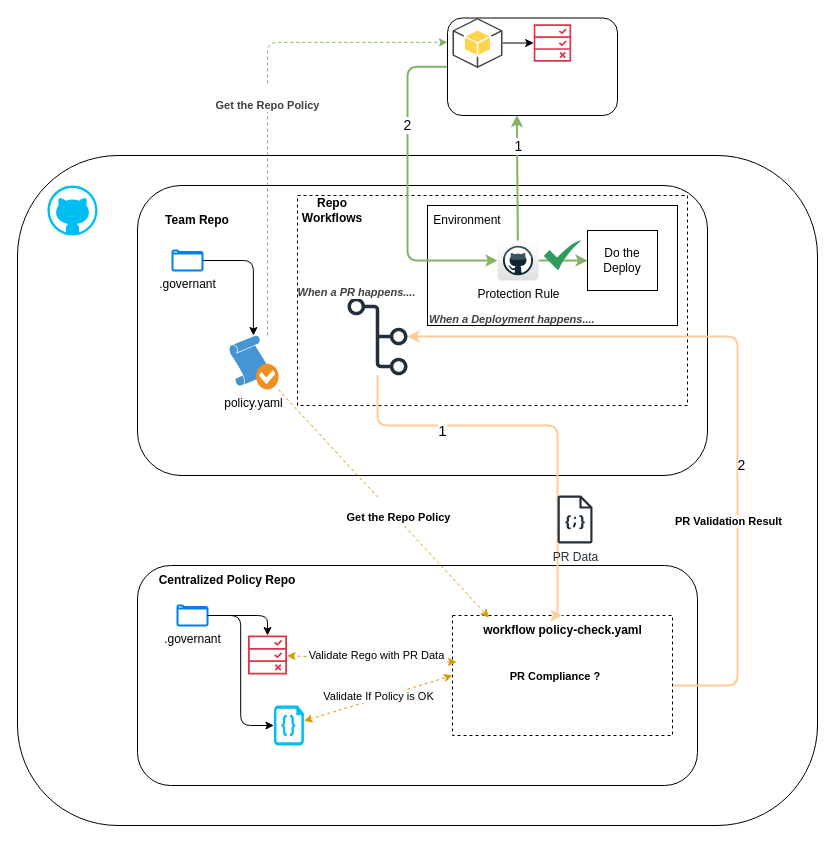
This 835x843 diagram has some shape labels left out. The shapes that lost their labels are listed below. From the top down, each one's centre as x and y in pixels, then its label:
At point 552,42: "rego Assembly".
At point 267,654: "rego".
At point 288,725: "policy-schema.yaml".
